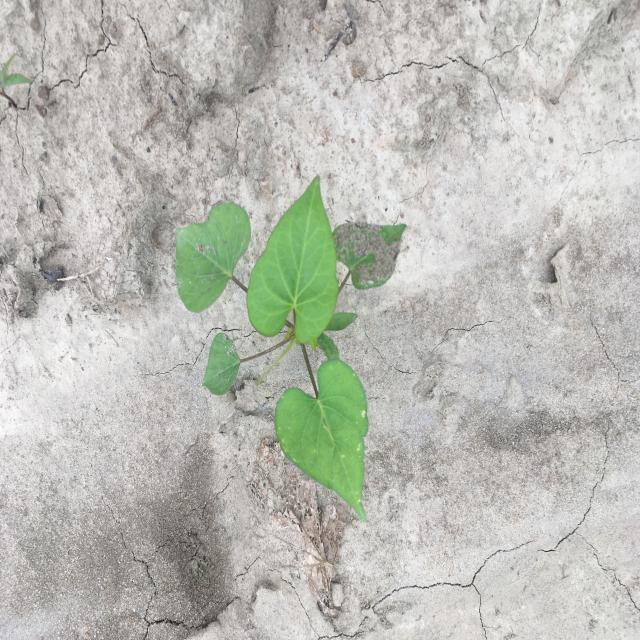MorningGlory: (174, 176, 407, 523)
